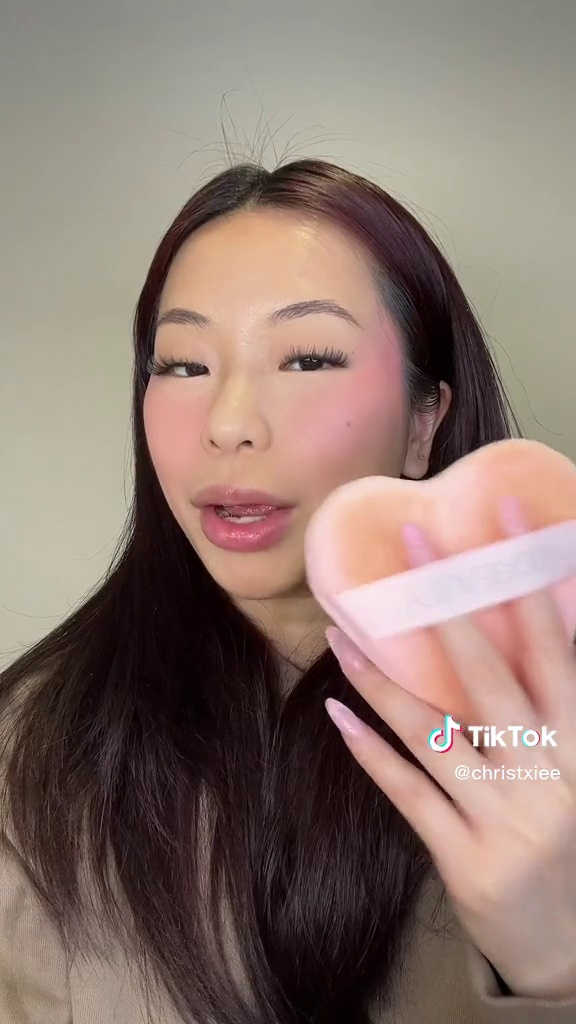train' :'yolo_data/train/images',: (302, 433, 573, 741)
